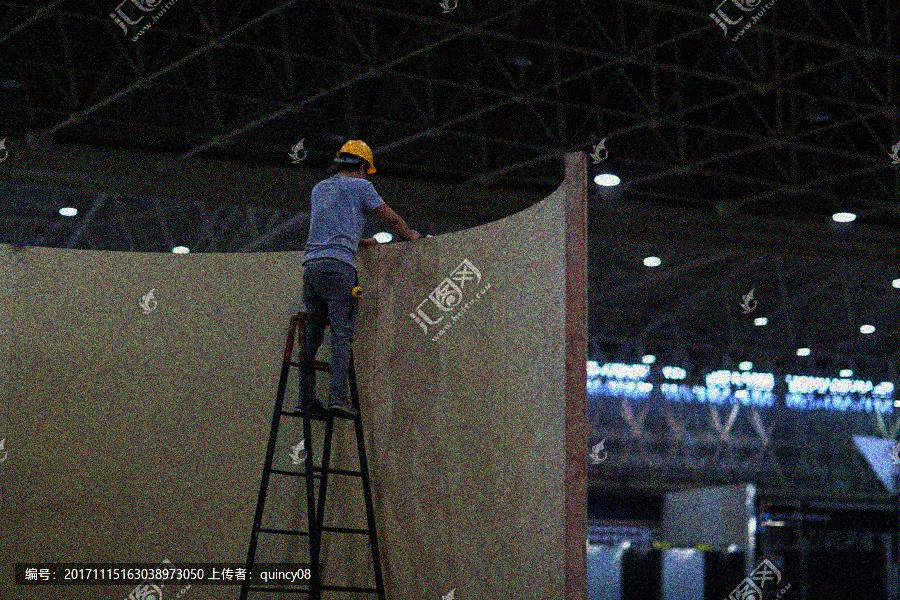helmet: (334, 138, 377, 182)
